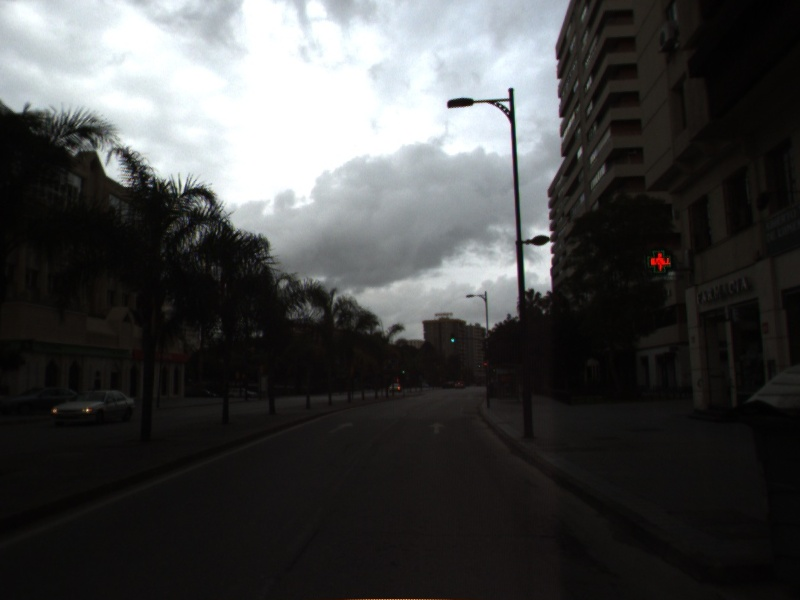STRAIGHT: (326, 420, 355, 436), (425, 420, 448, 436)
